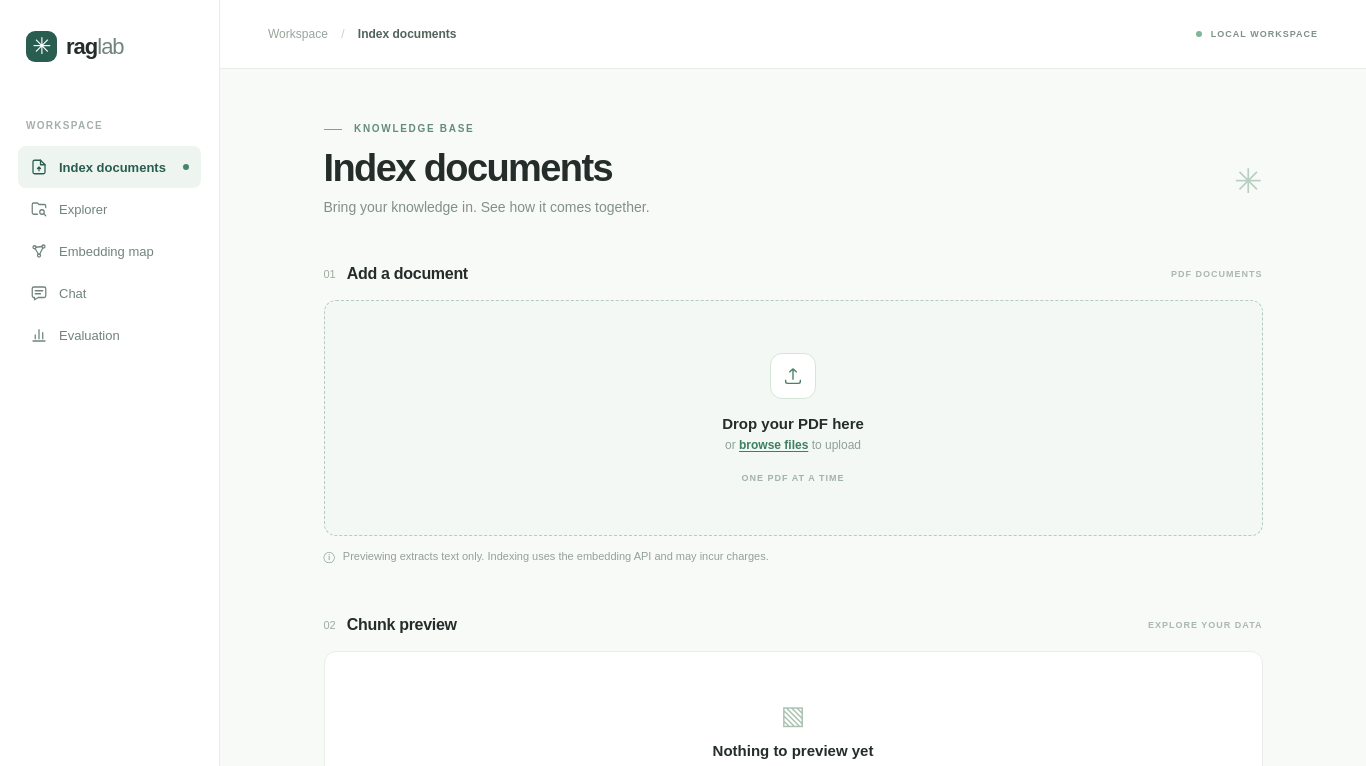
Test case: navigates to the embedding map
Click the link "Embedding map" at (92, 251), box [30,242,154,260]
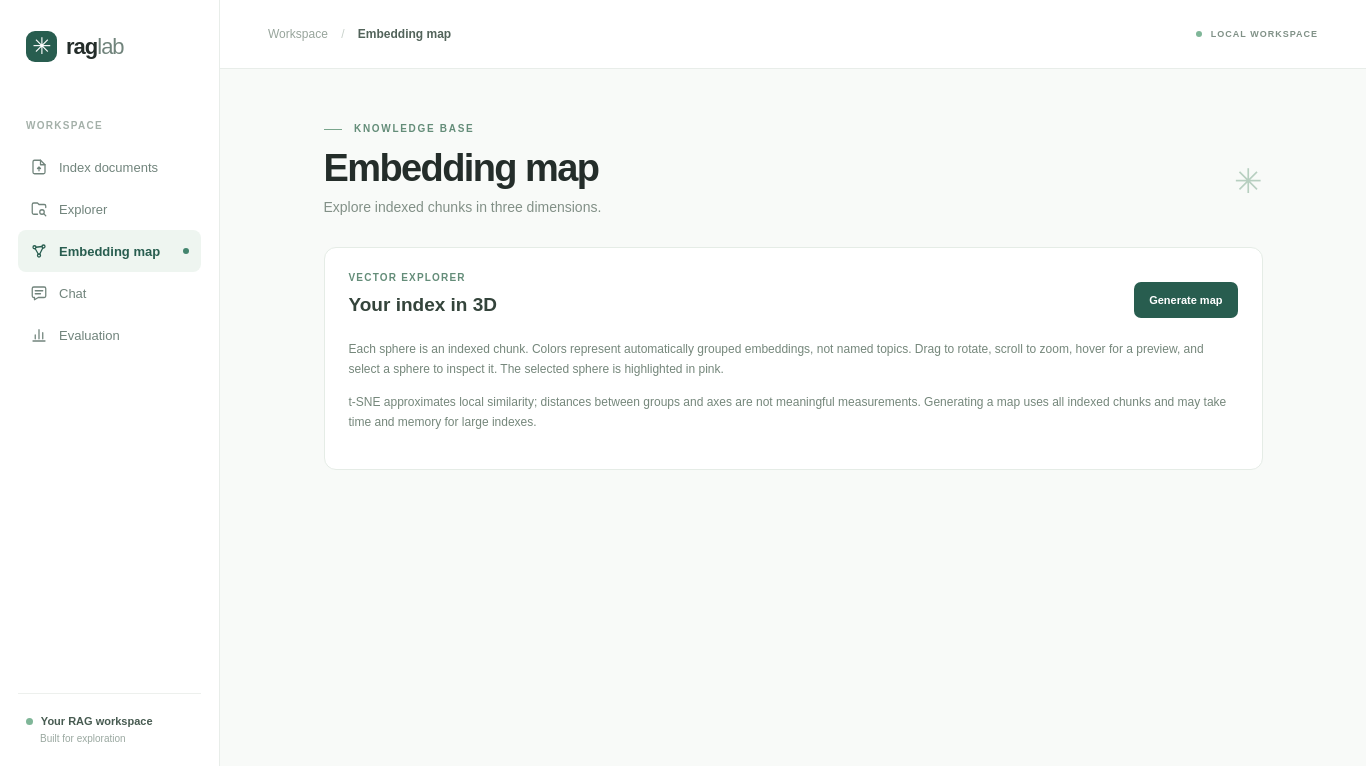
Result: the heading "Embedding map" is shown at [324,147,601,190]
